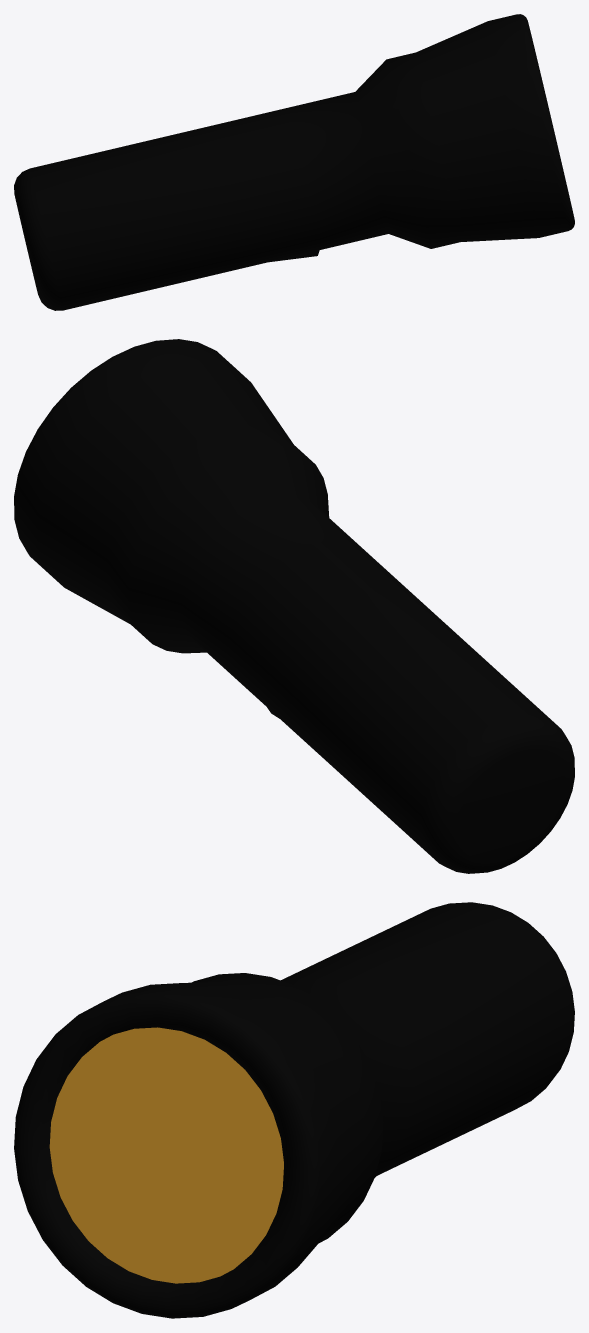
Rendered from Page8_Taschenlampe.fbx.
3 renders of one model, top to bottom at view 1: azimuth 30°, elevation 25°; view 2: azimuth 150°, elevation 25°; view 3: azimuth 270°, elevation 25°, orthographic. The views are drawn at different scales.
Visible parts, largest first — view 1: Circle; view 2: Circle; view 3: Circle.
Part boxes in pixels (left/top/right/bottom): Circle: left=14, top=14, right=574, bottom=310; Circle: left=14, top=339, right=574, bottom=873; Circle: left=14, top=902, right=574, bottom=1318.
Size of the model in its own units: 4314 by 2218 by 2918.
